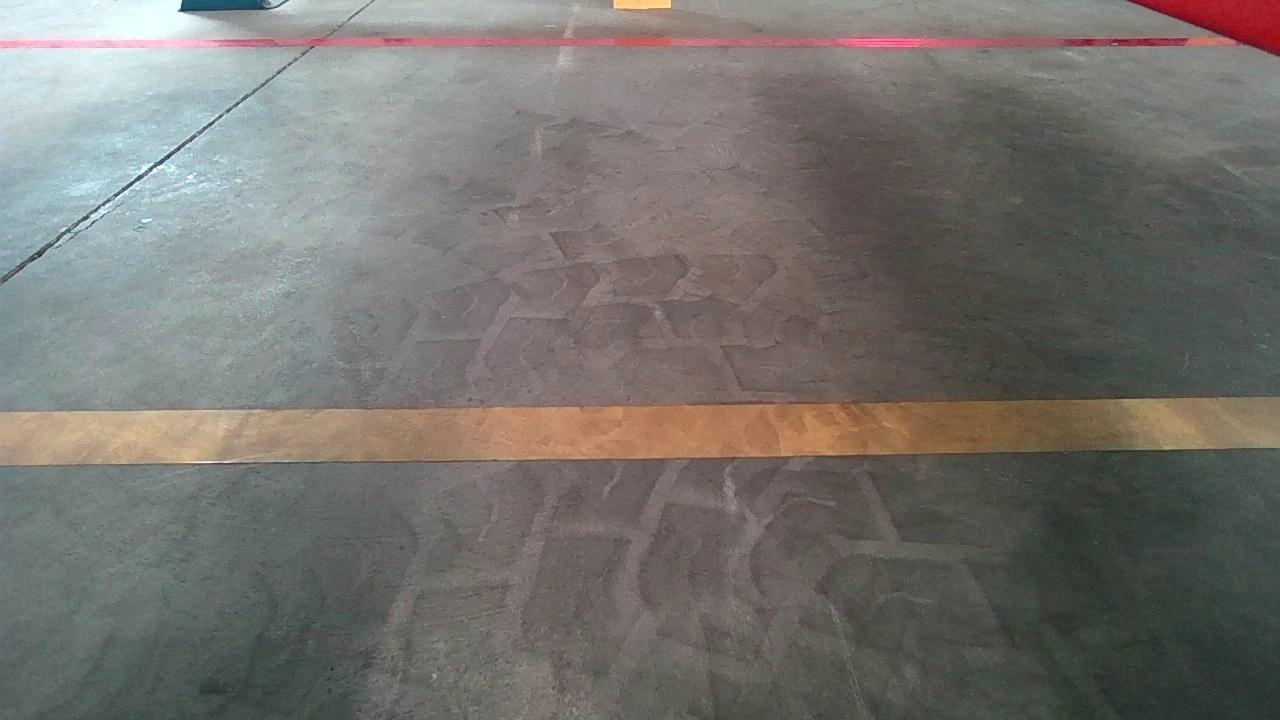red_line: (0, 35, 1241, 52)
yellow_line: (3, 393, 1280, 466)
